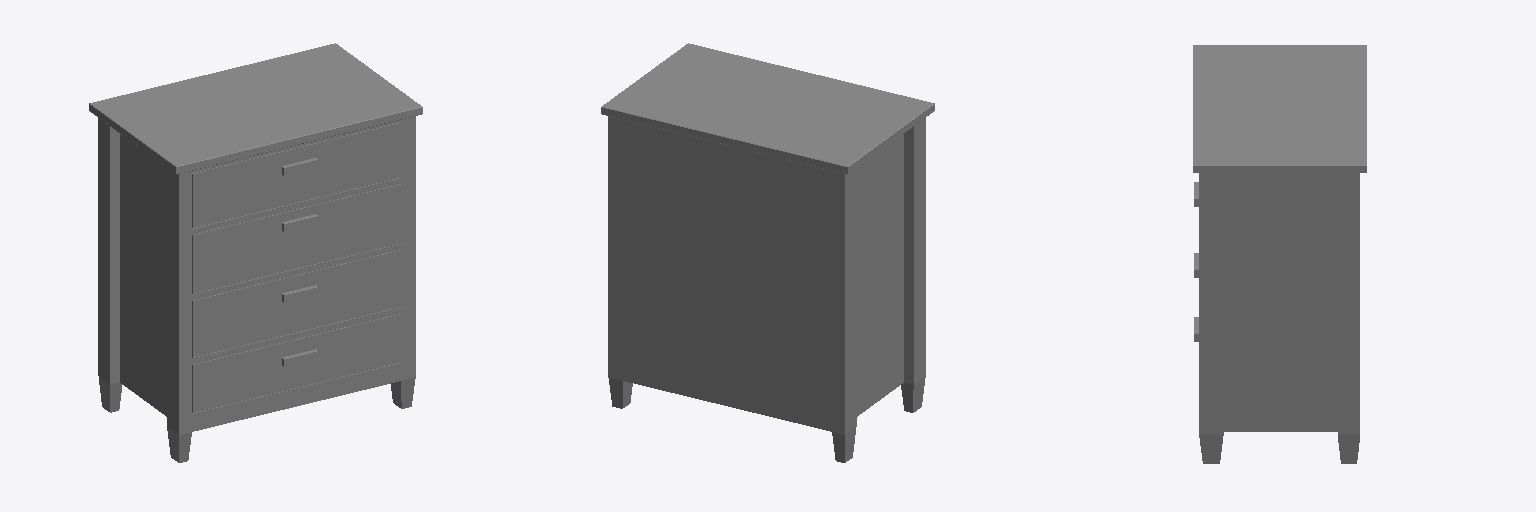
File: dresser.obj
The picture shows the model from 3 angles: view 1: azimuth 30°, elevation 25°; view 2: azimuth 150°, elevation 25°; view 3: azimuth 270°, elevation 25°; orthographic projection.
Parts seen in each view (by area): view 1: cabinet_Mesh; view 2: cabinet_Mesh; view 3: cabinet_Mesh.
Part boxes in pixels (bbox=[...]): cabinet_Mesh: bbox=[89, 43, 422, 462]; cabinet_Mesh: bbox=[601, 43, 934, 462]; cabinet_Mesh: bbox=[1193, 45, 1366, 463].
Size of the model in its own units: 0.8849 by 1.03 by 0.5401.